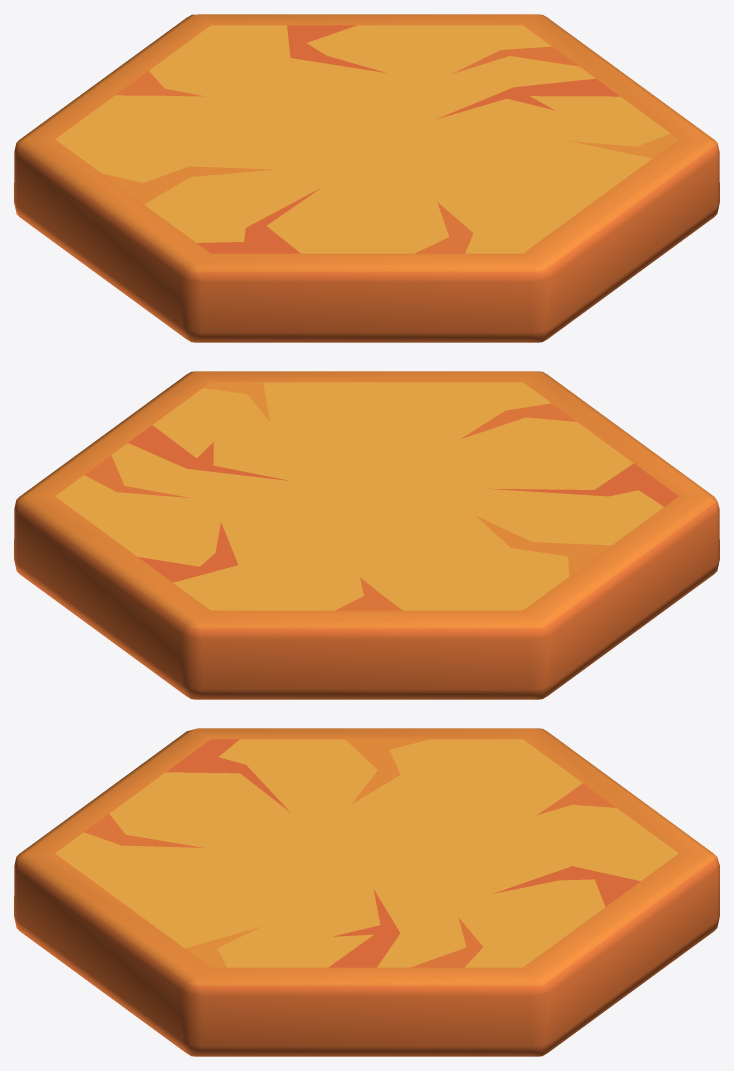
Rendered from Platform yellow 3.fbx.
The picture shows the model from 3 angles, top to bottom: view 1: azimuth 30°, elevation 25°; view 2: azimuth 150°, elevation 25°; view 3: azimuth 270°, elevation 25°; orthographic projection.
Visible parts, largest first — view 1: Platform yellow 3; view 2: Platform yellow 3; view 3: Platform yellow 3.
Part boxes in pixels (bbox=[...]): Platform yellow 3: bbox=[14, 14, 719, 342]; Platform yellow 3: bbox=[14, 371, 719, 699]; Platform yellow 3: bbox=[14, 728, 719, 1056].
Bounding box in the file's own units: 625 × 83.5 × 715.
